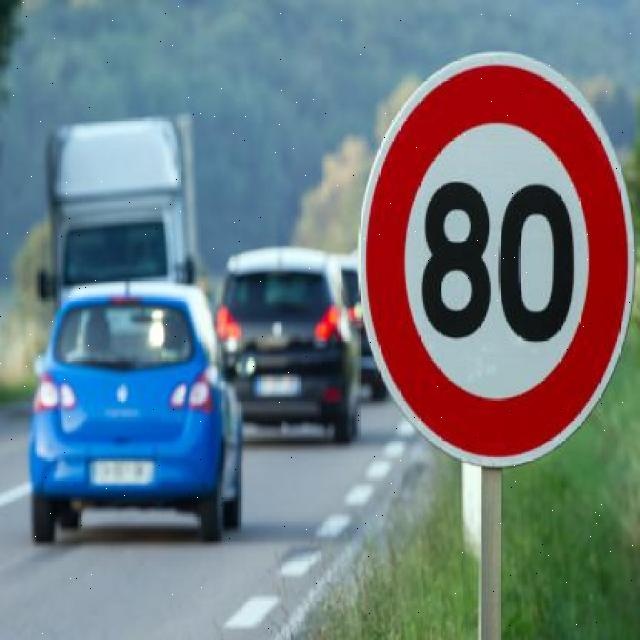speed limit 80: (356, 52, 635, 469)
